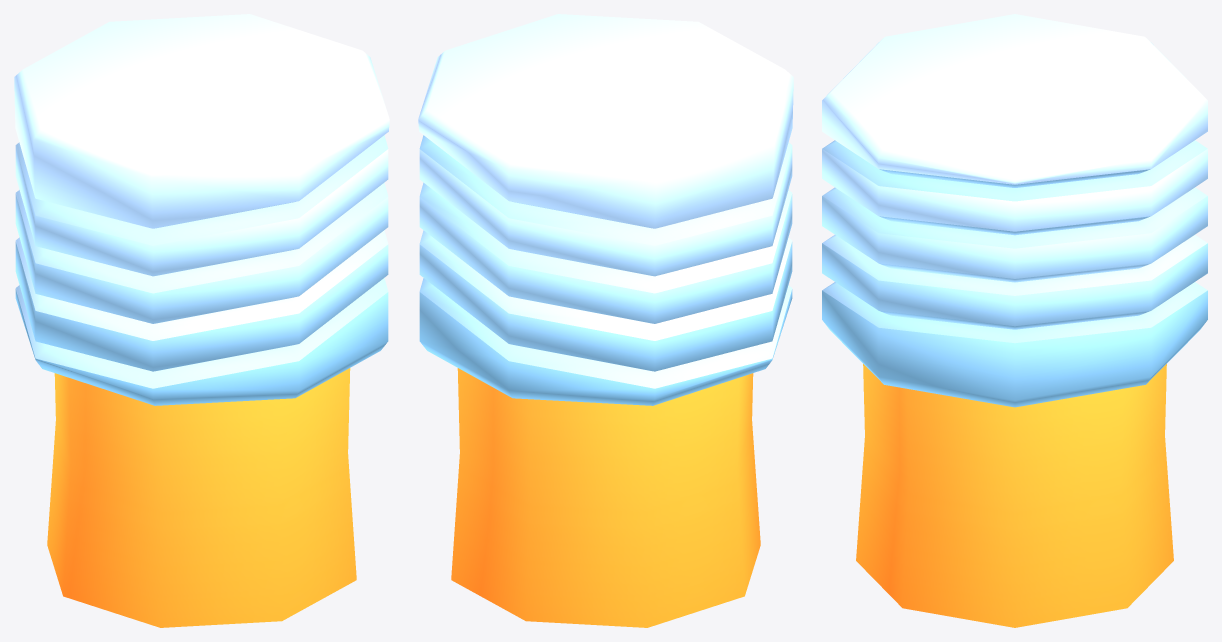
Rendered from gold_and_steel_grip_051.glb.
3 views of the same model, side by side, from view 1: azimuth 30°, elevation 25°; view 2: azimuth 150°, elevation 25°; view 3: azimuth 270°, elevation 25° (orthographic).
Visible parts, largest first — view 1: gold_and_steel_grip_051; view 2: gold_and_steel_grip_051; view 3: gold_and_steel_grip_051.
Boxes of the visible parts, left/top/right/bottom form: gold_and_steel_grip_051: left=14, top=14, right=389, bottom=627; gold_and_steel_grip_051: left=418, top=14, right=793, bottom=627; gold_and_steel_grip_051: left=822, top=14, right=1207, bottom=627.
Size of the model in its own units: 2.24 by 3 by 2.24.
Materials: 1 (1 with a texture image).
